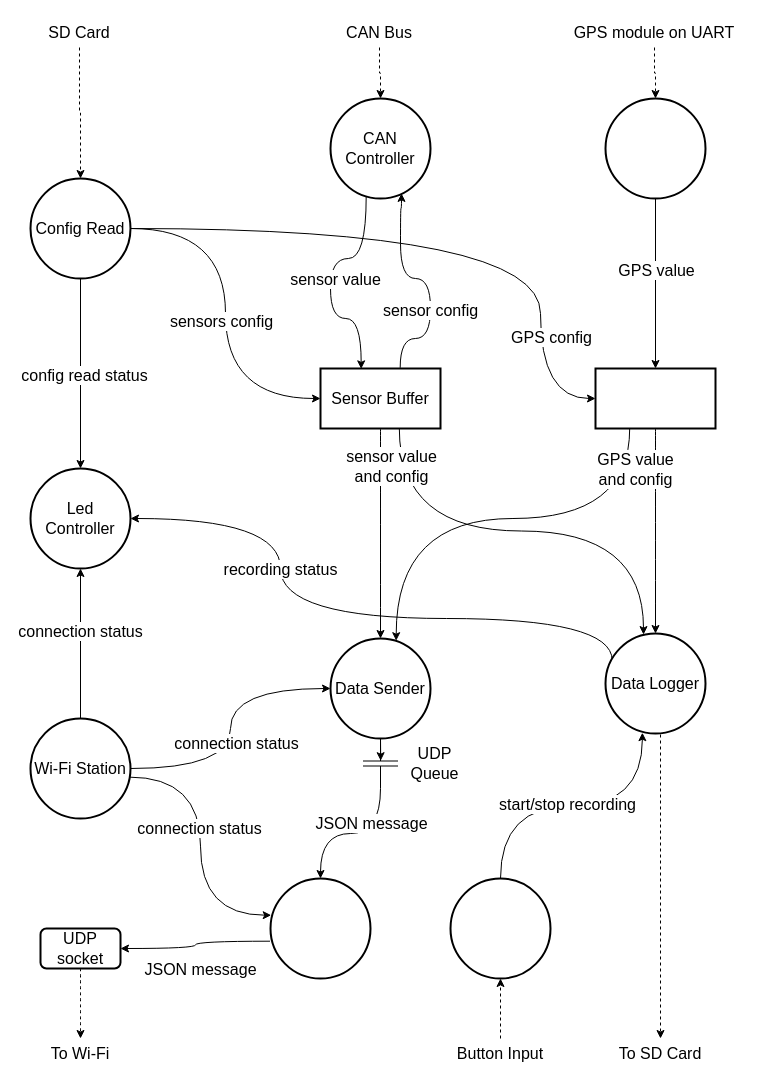
Image size: 761x1085. Some labels were removed from this diagram. Each missing label, with the centre of its shape:
Button Manager: point 500,928
GPS Buffer: point 655,398
GPS Controller: point 655,148
UDP Client: point 320,928
